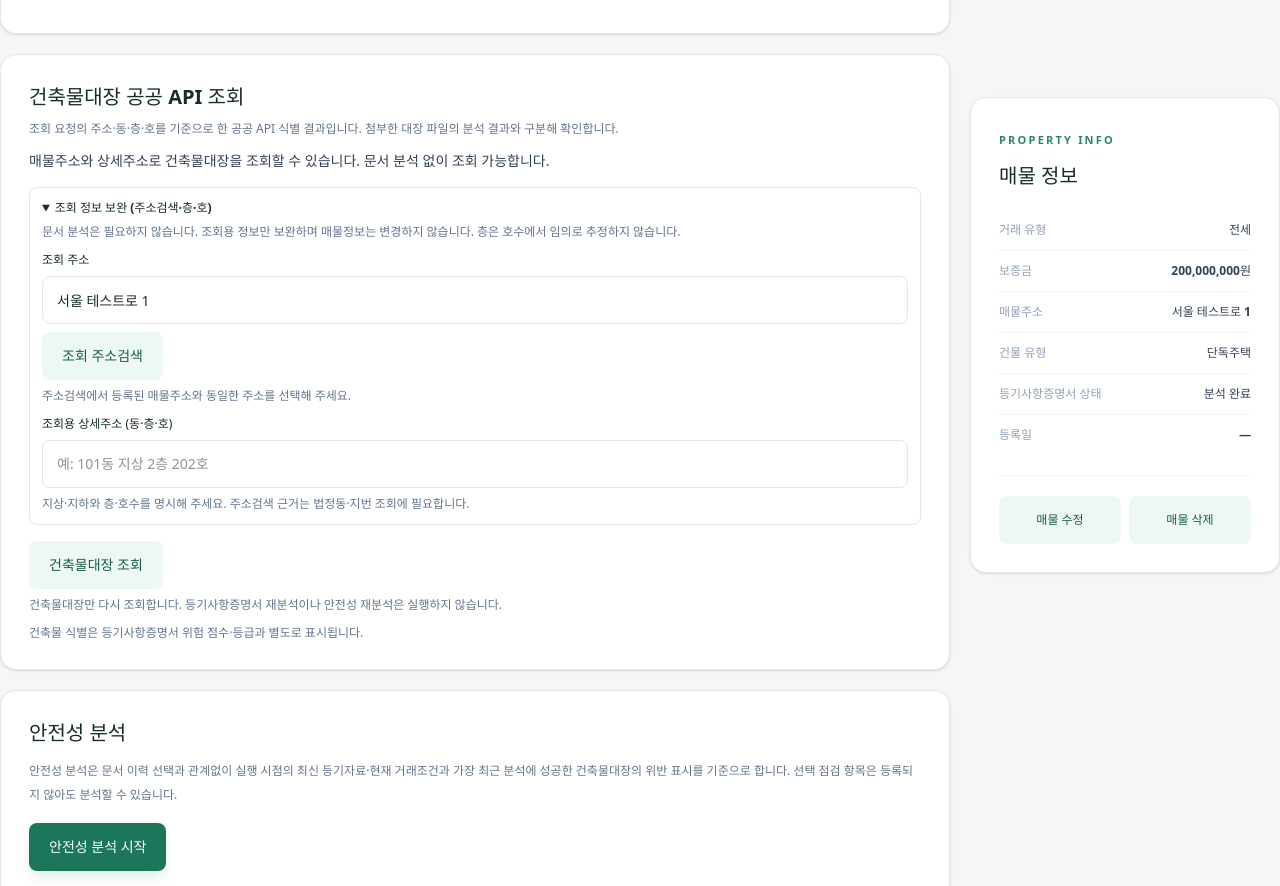
Scenario: safety analysis state › shows an analysis error icon when the analysis request fails
This screenshot has width=1280, height=886.
(page scrolled)
Click the button "안전성 분석 시작" at x=98, y=846, box top-left (29, 822), bottom-right (166, 870)
(page scrolled)
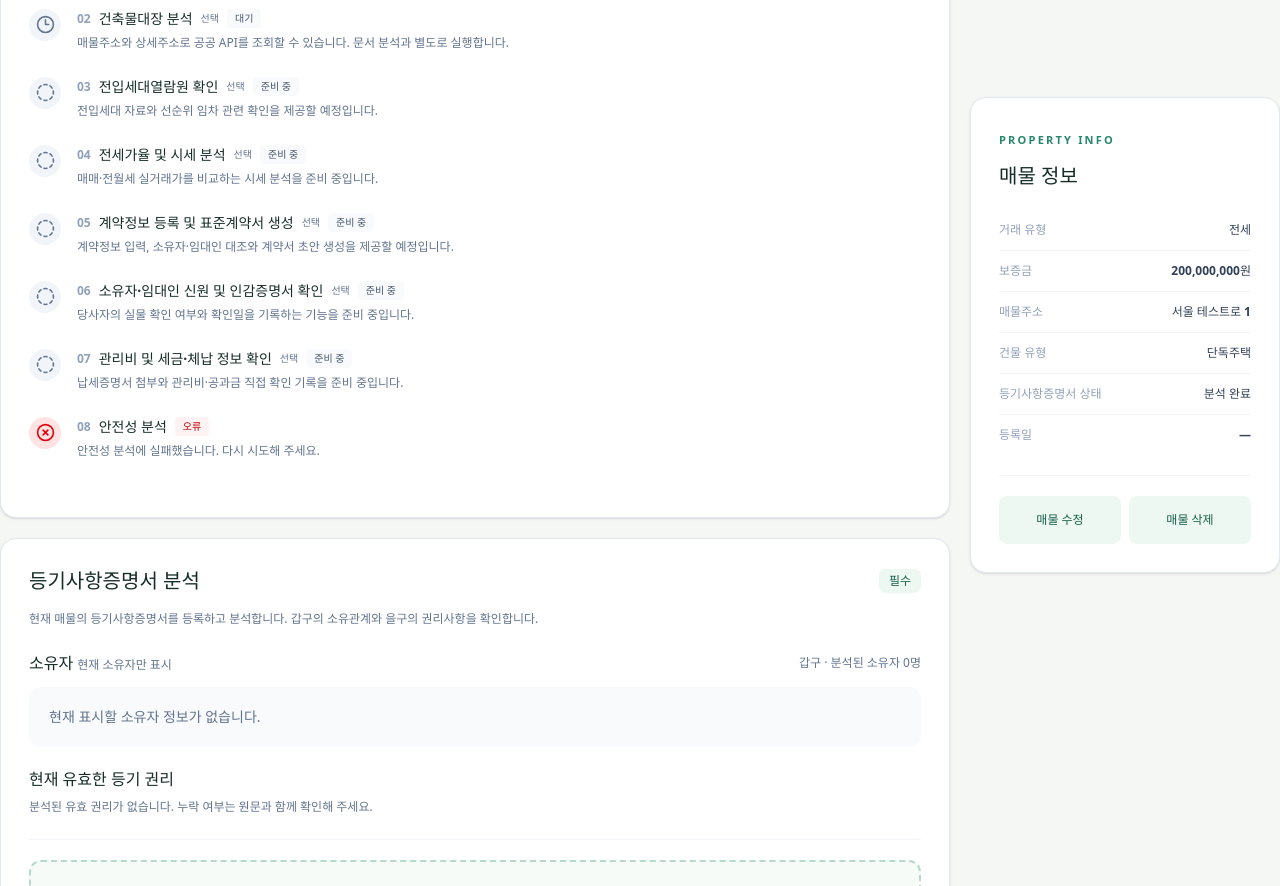
expect the picture named "안전성 분석: 오류" is shown: met, box top-left (29, 416), bottom-right (61, 448)
expect the text "안전성 분석에 실패했습니다. 다시 시도해 주세요." is shown: met, box top-left (77, 440), bottom-right (320, 460)
